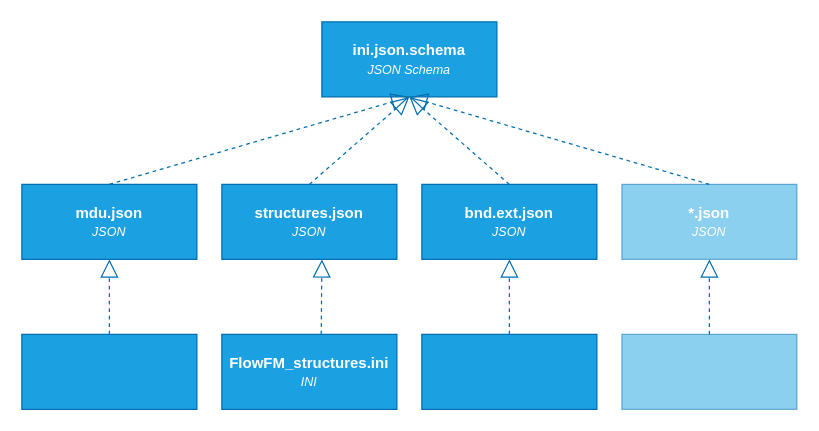
Image size: 819x431. Some labels were removed from this diagram. The shapes that lost their labels are listed below. From the top down, each one's centre as x and y in pixels, then its label:
the point at 109,371: FlowFM.mdu INI
the point at 509,371: FlowFM_bnd.ext INI
the point at 709,371: *.* INI
